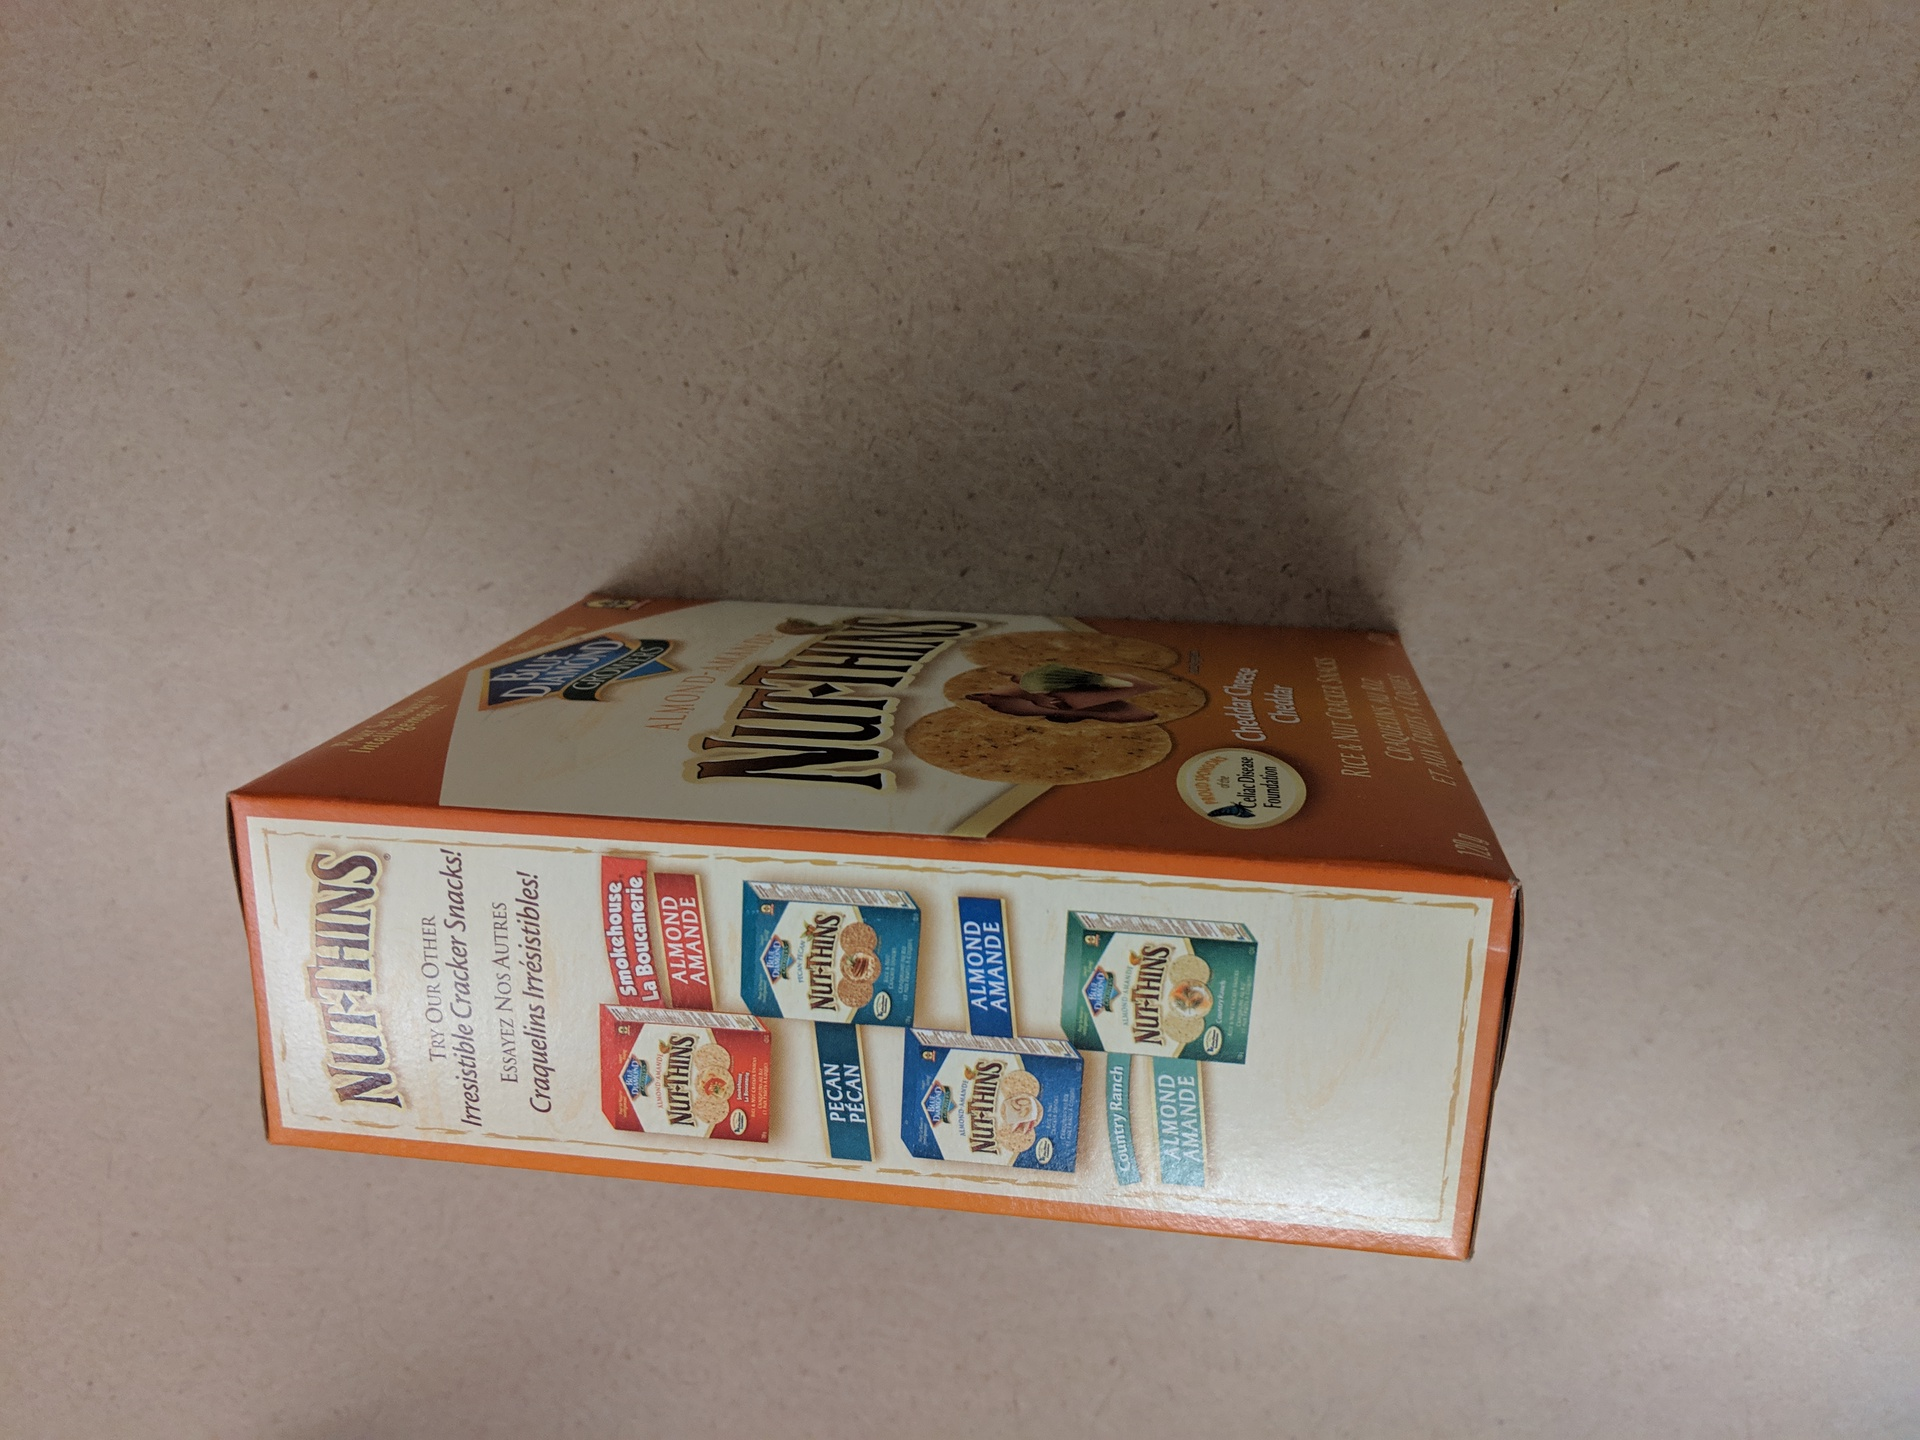blue_diamond_nut_thins_almond_cheddar: (203, 552, 1569, 1314)
